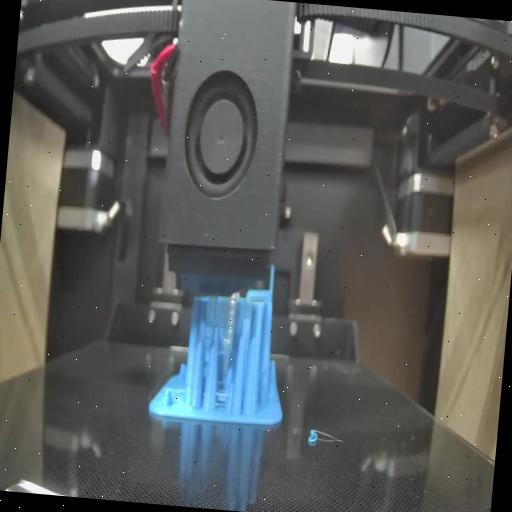stringing: (205, 295, 255, 331), (212, 388, 230, 412), (164, 385, 190, 399)
